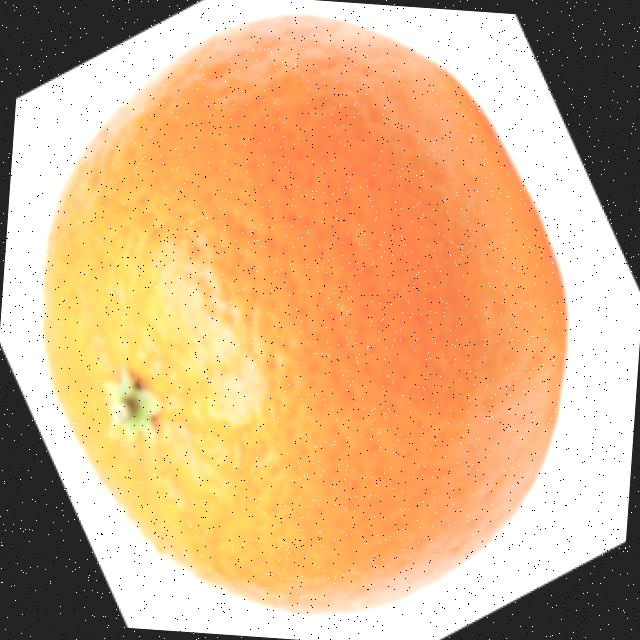orange: (15, 0, 592, 636)
